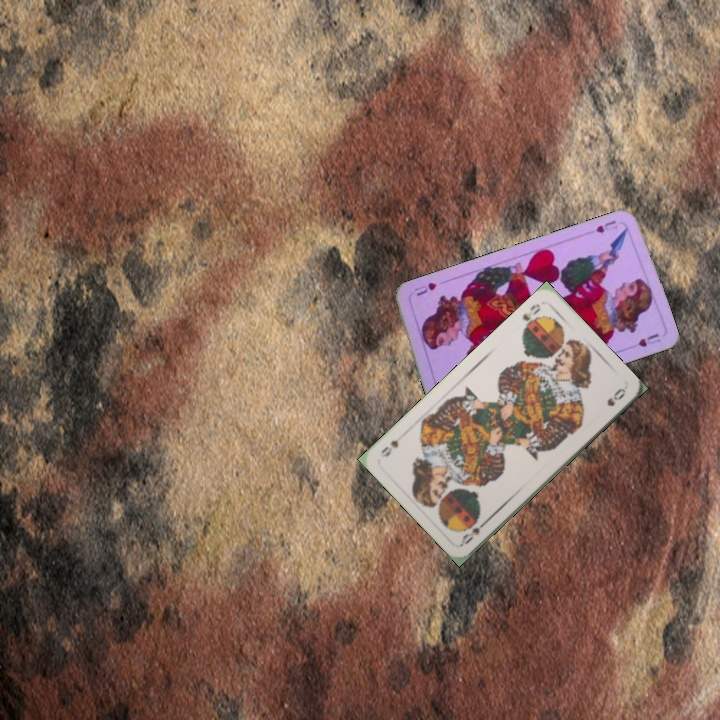HU: (592, 216, 621, 236)
SO: (457, 515, 491, 547), (518, 300, 543, 333)
